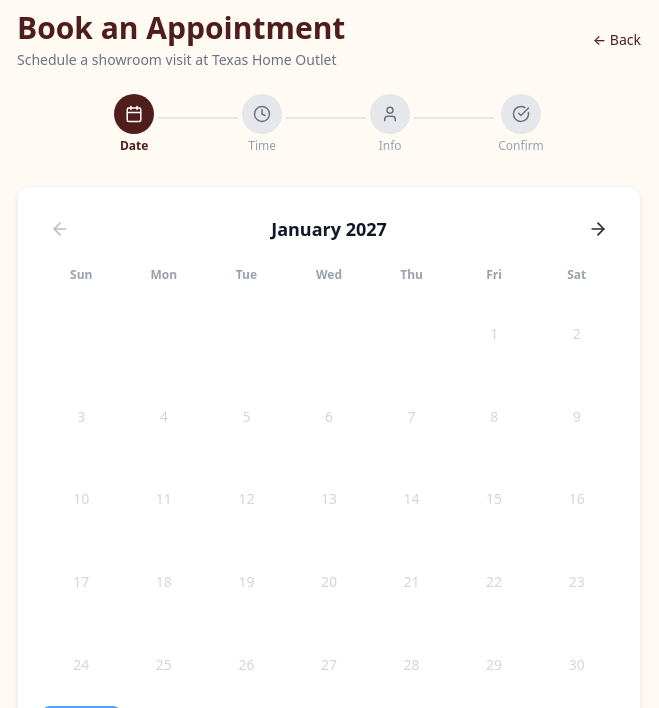
it: appointment calendar when a month ends on Sunday › January 2027 has no enabled date until Next month
Check: the heading "January 2027" is shown, box x1=271 y1=215 x2=387 y2=243
Click the button named "Next month": [598, 229] box x1=580 y1=211 x2=616 y2=247
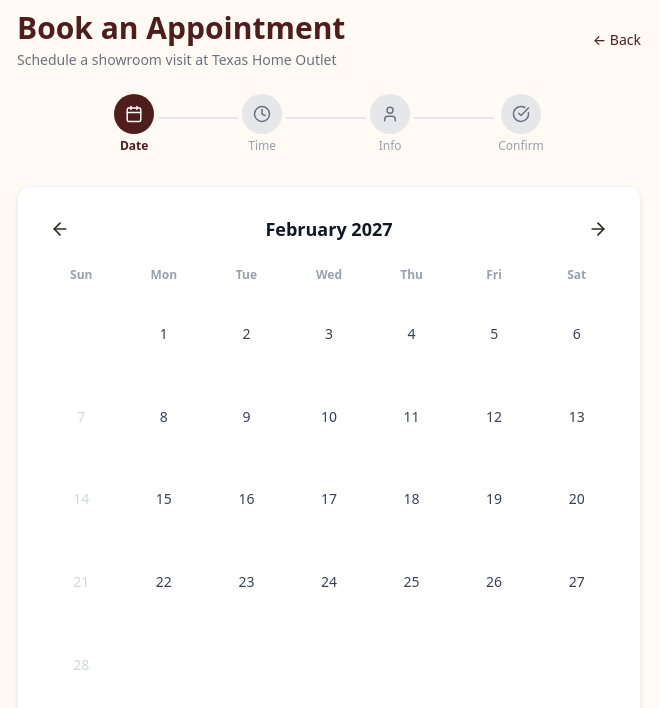
Check: the button "1" is enabled, box x1=125 y1=295 x2=203 y2=374
Check: the heading "February 2027" is shown, box x1=266 y1=215 x2=393 y2=243
